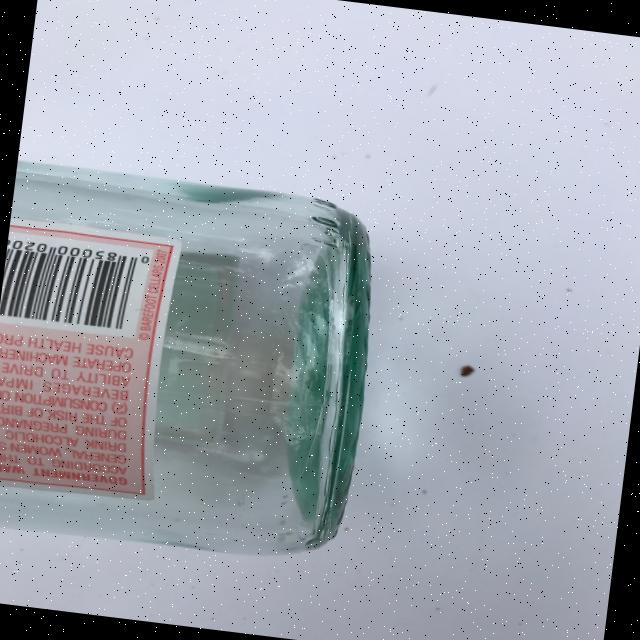glass: (0, 158, 388, 570)
